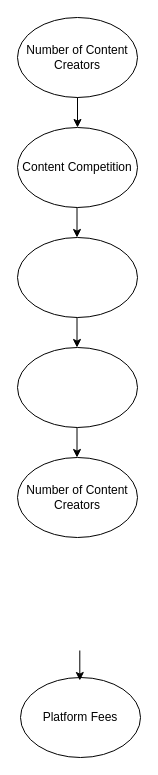
Image size: 158x775. Some labels were removed from this diagram. The centre of each missing label's shape, as x and y in pixels:
"Attraction for Content Creators" goes at (x=77, y=387).
"Earnings Per Creator" goes at (x=77, y=277).
